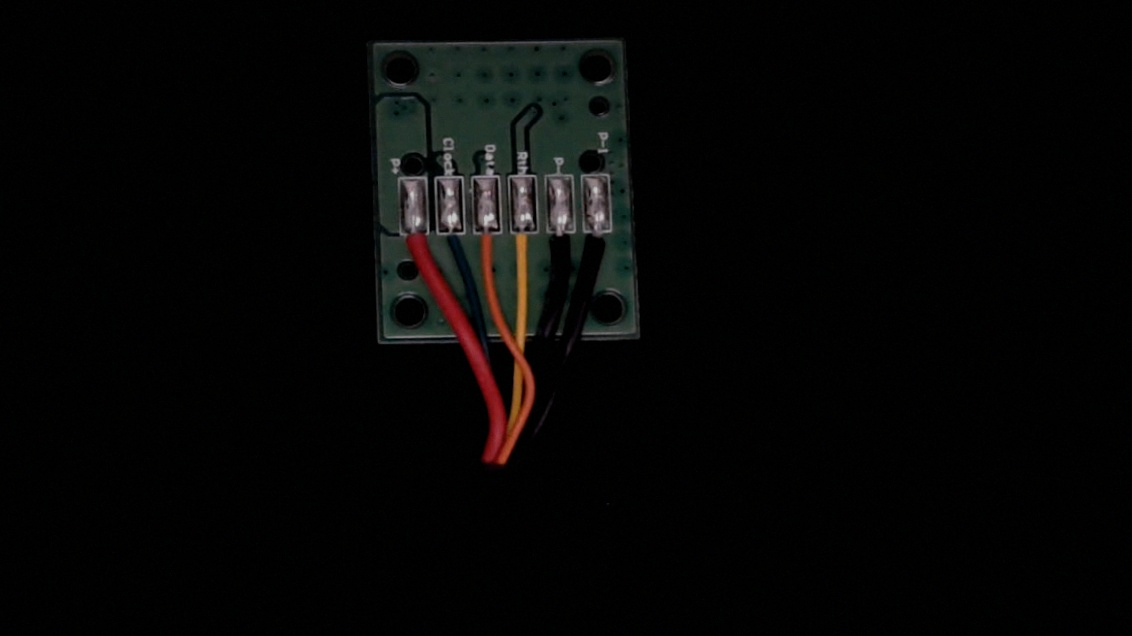Black: (546, 218, 575, 276)
Black1: (584, 219, 612, 277)
Green: (436, 214, 466, 274)
Orange: (474, 218, 502, 277)
Red: (400, 216, 429, 274)
Yellow: (511, 217, 537, 280)
